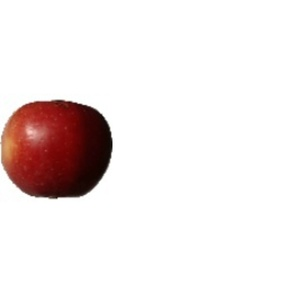maçã braeburn: (1, 96, 115, 207)
